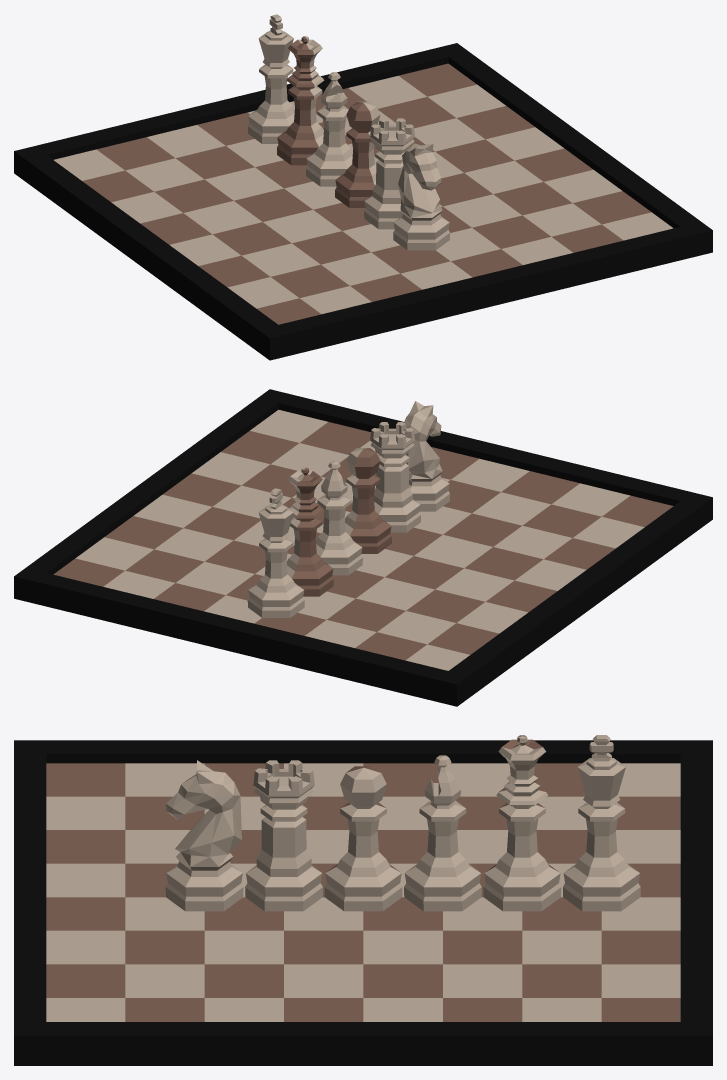
3 renders of one model, top to bottom at view 1: azimuth 30°, elevation 25°; view 2: azimuth 150°, elevation 25°; view 3: azimuth 270°, elevation 25°, orthographic. The views are drawn at different scales.
Parts seen in each view (by area): view 1: Board, Base, Knight_Base_Curve, Queen, King, Rook, Bishop, Pawn; view 2: Board, Base, King, Rook, Queen, Pawn, Knight_Base_Curve, Bishop; view 3: Board, Base, Knight_Base_Curve, Rook, Queen, King, Pawn, Bishop.
Boxes of the visible parts, x1,y1,x2,y2 form: Board: [54, 63, 673, 324]; Base: [14, 43, 712, 360]; Knight_Base_Curve: [393, 143, 449, 250]; Queen: [277, 36, 324, 165]; King: [247, 14, 294, 143]; Rook: [364, 118, 414, 229]; Bishop: [306, 72, 352, 186]; Pawn: [335, 101, 380, 207]; Board: [53, 409, 673, 670]; Base: [14, 389, 712, 706]; King: [247, 488, 304, 617]; Rook: [370, 422, 420, 532]; Queen: [286, 467, 333, 596]; Pawn: [345, 448, 391, 553]; Knight_Base_Curve: [404, 401, 449, 511]; Bishop: [316, 461, 362, 575]; Board: [46, 763, 680, 1021]; Base: [14, 740, 712, 1065]; Knight_Base_Curve: [165, 760, 243, 911]; Rook: [245, 760, 322, 911]; Queen: [483, 735, 561, 911]; King: [563, 735, 640, 911]; Pawn: [324, 766, 402, 911]; Bishop: [404, 755, 481, 911].
Bounding box in the file's own units: 8.8 × 2.53 × 8.8.
